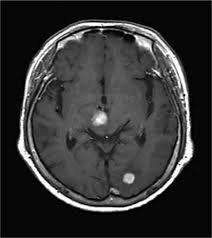Normal_Brain: (2, 2, 212, 238)
